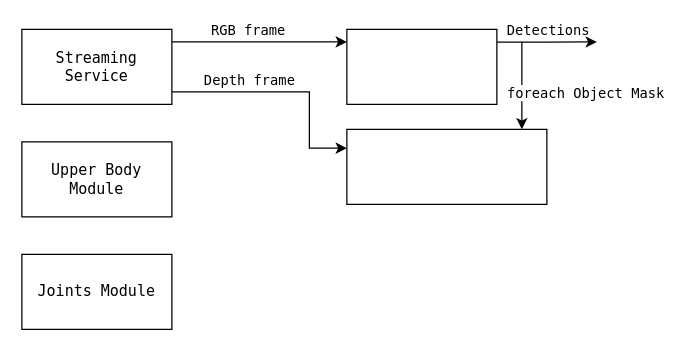
Image size: 685x351. Some labels were removed from this diagram. Each missing label, with the centre of its shape:
Point Cloud Manager: point 446,166
PSG: point 421,66
